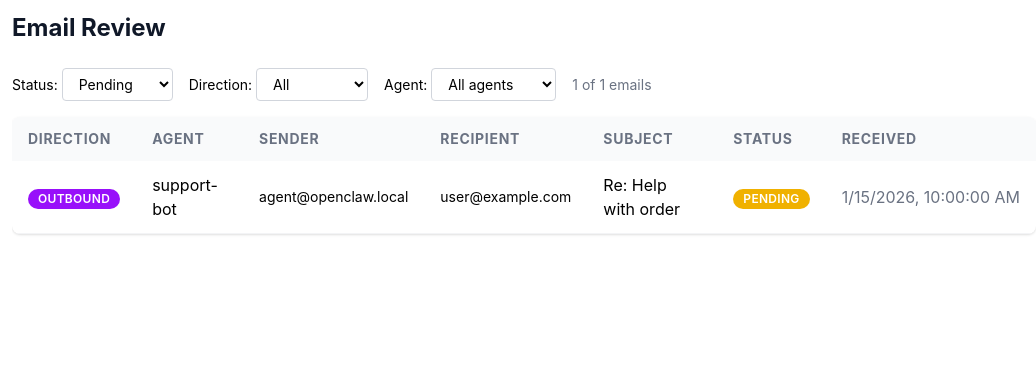
Test: EmailReviewPage › expands a row to show body and action buttons
Click the text "Re: Help with order": click(652, 197) [587,161,717,234]
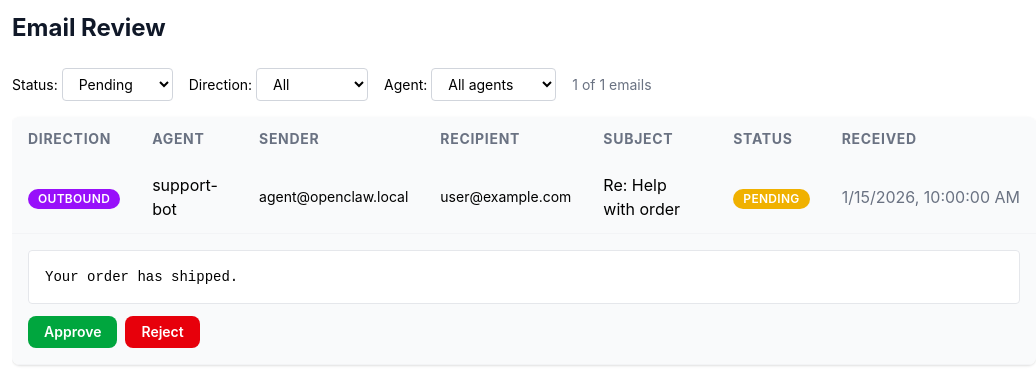
Check: the text "Your order has shipped." is shown, box [28,250,1020,304]
Check: the button "Approve" is shown, box [28,316,117,348]
Check: the button "Reject" is shown, box [125,316,200,348]
